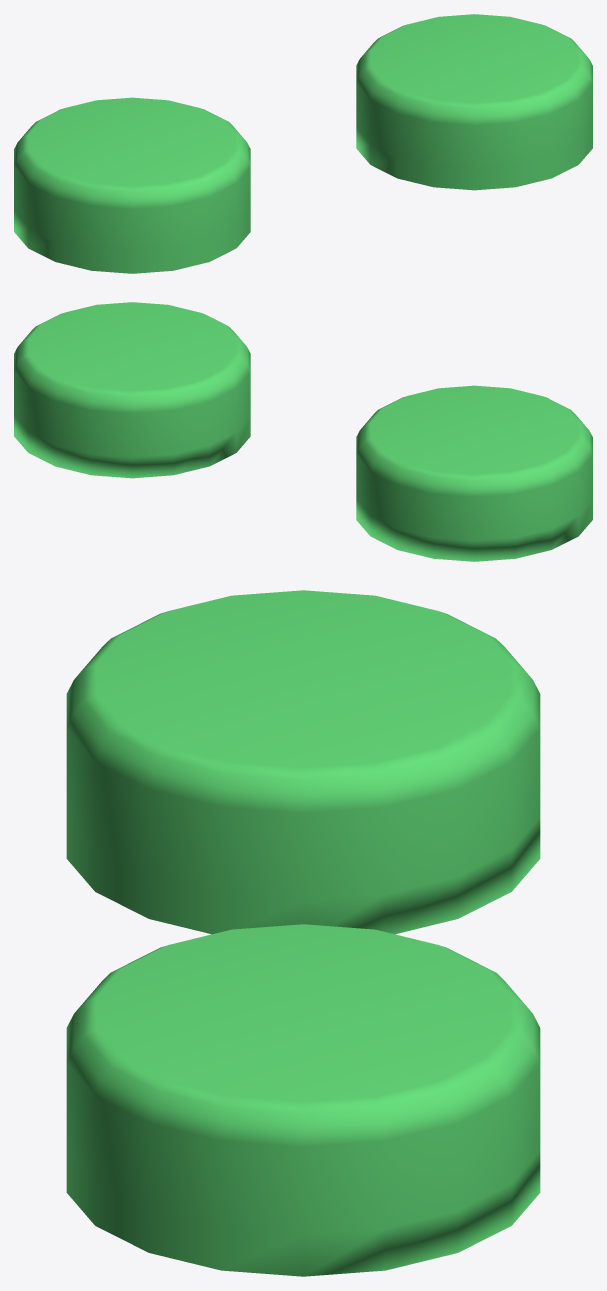
Rendered from _eadcube6.fbx.
The picture shows the model from 3 angles, top to bottom: view 1: azimuth 30°, elevation 25°; view 2: azimuth 150°, elevation 25°; view 3: azimuth 270°, elevation 25°; orthographic projection. The views are drawn at different scales.
Parts seen in each view (by area): view 1: head_cube6; view 2: head_cube6; view 3: head_cube6.
Boxes of the visible parts, <box> form: head_cube6: <box>14,14,592,273</box>; head_cube6: <box>14,302,592,561</box>; head_cube6: <box>66,590,540,1276</box>.
Bounding box in the file's own units: 161 × 22.62 × 59.94.
